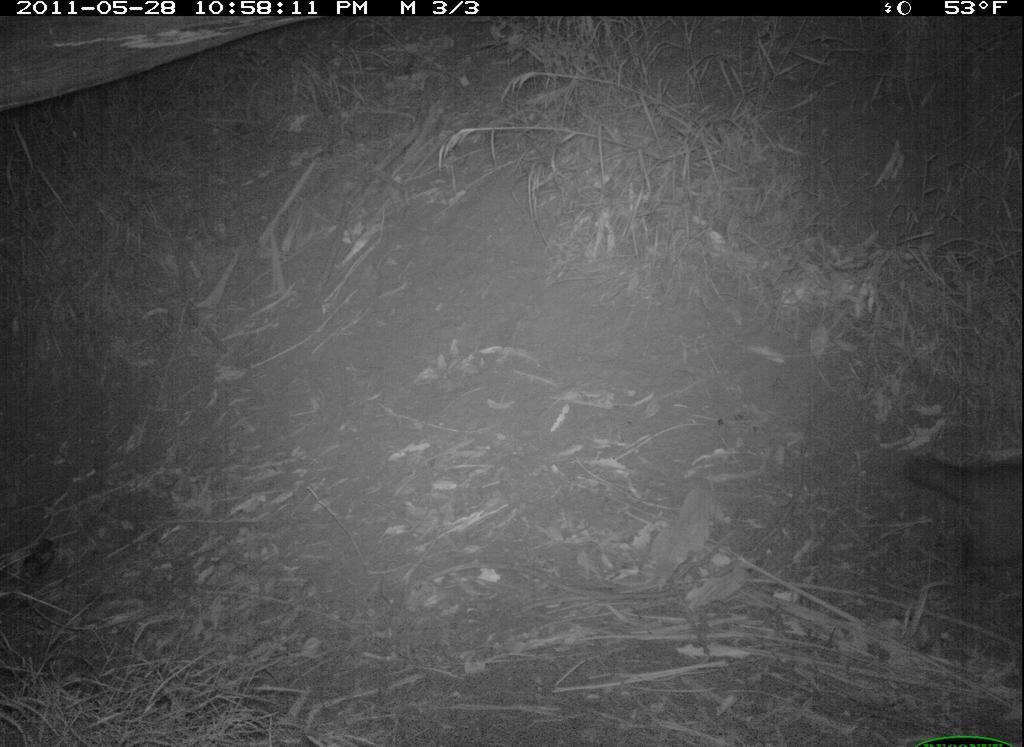raccoon: (877, 428, 1022, 580)
